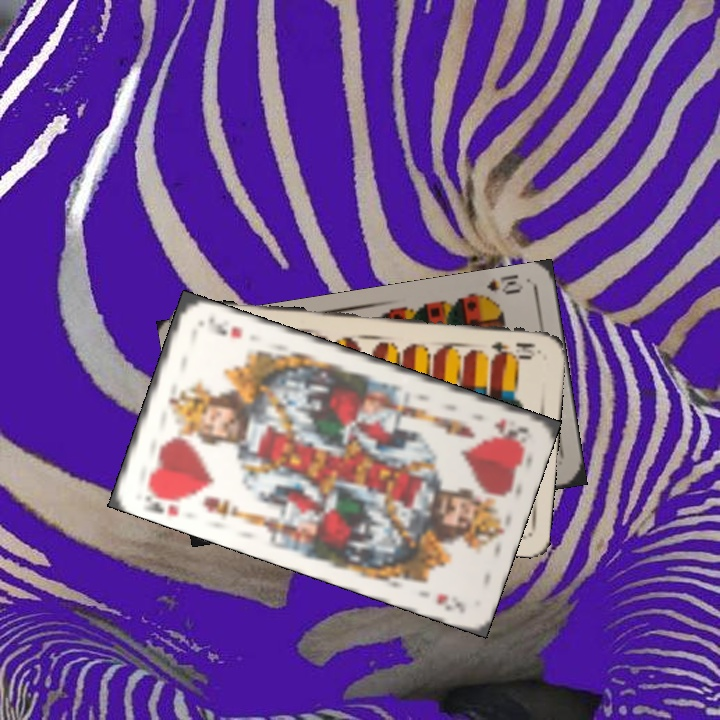E10: (487, 337, 539, 362)
HK: (140, 482, 191, 520), (489, 414, 530, 444)
S10: (471, 271, 526, 303)
